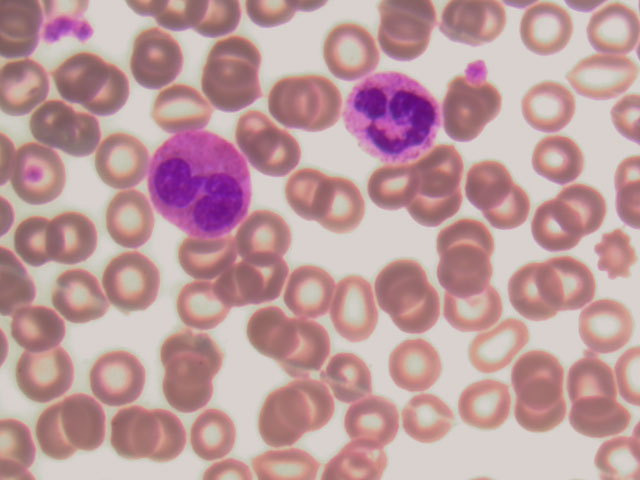Platelets: (38, 12, 96, 46), (463, 57, 491, 90)
RBC: (268, 67, 329, 129), (201, 57, 262, 119), (203, 21, 264, 83), (154, 71, 215, 133), (124, 26, 185, 88), (83, 58, 144, 120), (51, 43, 112, 105), (37, 91, 98, 153), (90, 131, 151, 193), (89, 196, 150, 258), (100, 255, 161, 317), (171, 275, 232, 337), (217, 253, 278, 315), (240, 237, 301, 299), (245, 207, 306, 269), (278, 255, 339, 317), (277, 318, 338, 380), (231, 300, 292, 362), (160, 322, 221, 384), (159, 359, 220, 421), (87, 350, 148, 412), (50, 269, 111, 331), (48, 207, 109, 269), (7, 211, 68, 273), (6, 137, 67, 199), (7, 293, 68, 355), (14, 339, 75, 401), (50, 393, 111, 455), (10, 401, 71, 463), (100, 402, 161, 464), (145, 406, 206, 468), (192, 407, 253, 469), (257, 391, 318, 453), (287, 375, 348, 437), (317, 341, 378, 403), (339, 390, 400, 452), (396, 392, 457, 454), (385, 336, 446, 398), (388, 286, 449, 348), (370, 254, 431, 316), (321, 281, 382, 343), (451, 373, 512, 435), (507, 387, 568, 449), (503, 344, 564, 406), (472, 316, 533, 378), (442, 282, 503, 344), (435, 236, 496, 298), (436, 205, 497, 267), (399, 178, 460, 240), (407, 139, 468, 201), (354, 160, 415, 222), (307, 172, 368, 234), (274, 163, 335, 225), (243, 116, 304, 178), (524, 197, 585, 259), (552, 175, 613, 237), (532, 131, 593, 193), (519, 77, 580, 139), (568, 44, 629, 106), (517, 2, 578, 64), (368, 1, 429, 63), (313, 20, 374, 82), (579, 293, 640, 355), (548, 253, 609, 315), (579, 225, 640, 287), (500, 259, 561, 321), (564, 349, 625, 411), (572, 385, 633, 447), (579, 1, 640, 62), (445, 1, 506, 62), (590, 434, 640, 480)
WBC: (150, 131, 251, 238), (344, 68, 442, 166)
